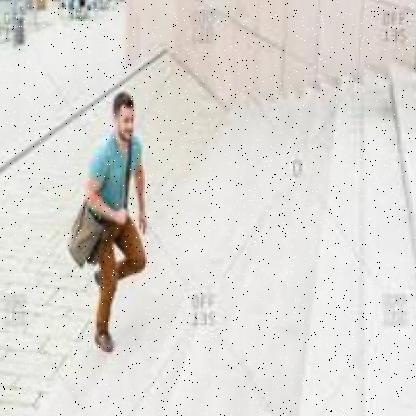stair_up: (58, 296, 347, 415)
